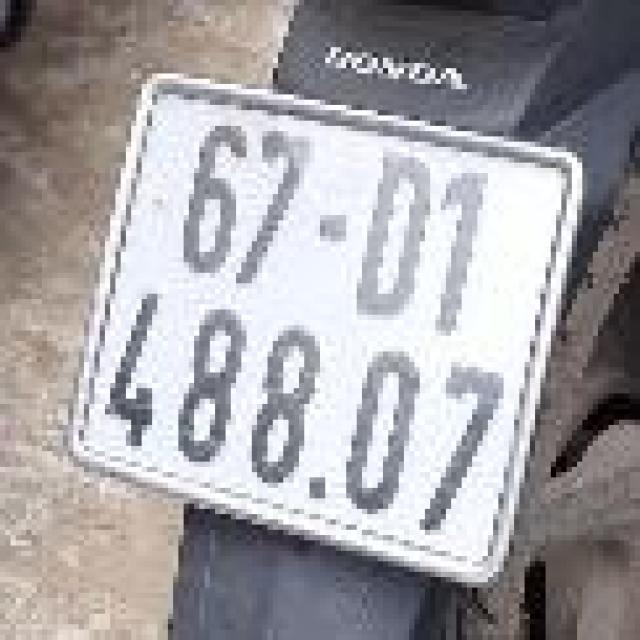0: (344, 330, 417, 524)
1: (441, 160, 488, 349)
4: (89, 288, 163, 446)
6: (178, 105, 252, 283)
7: (428, 362, 506, 556), (231, 123, 320, 286)
8: (250, 317, 318, 496), (170, 296, 238, 469)
D: (352, 142, 430, 320)
